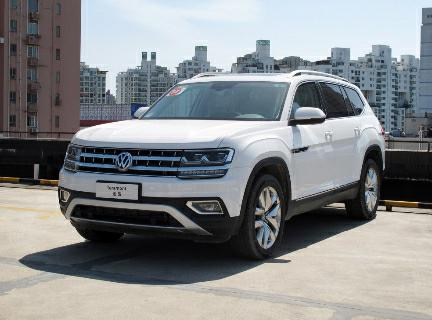大众-途昂: (49, 65, 397, 265)
